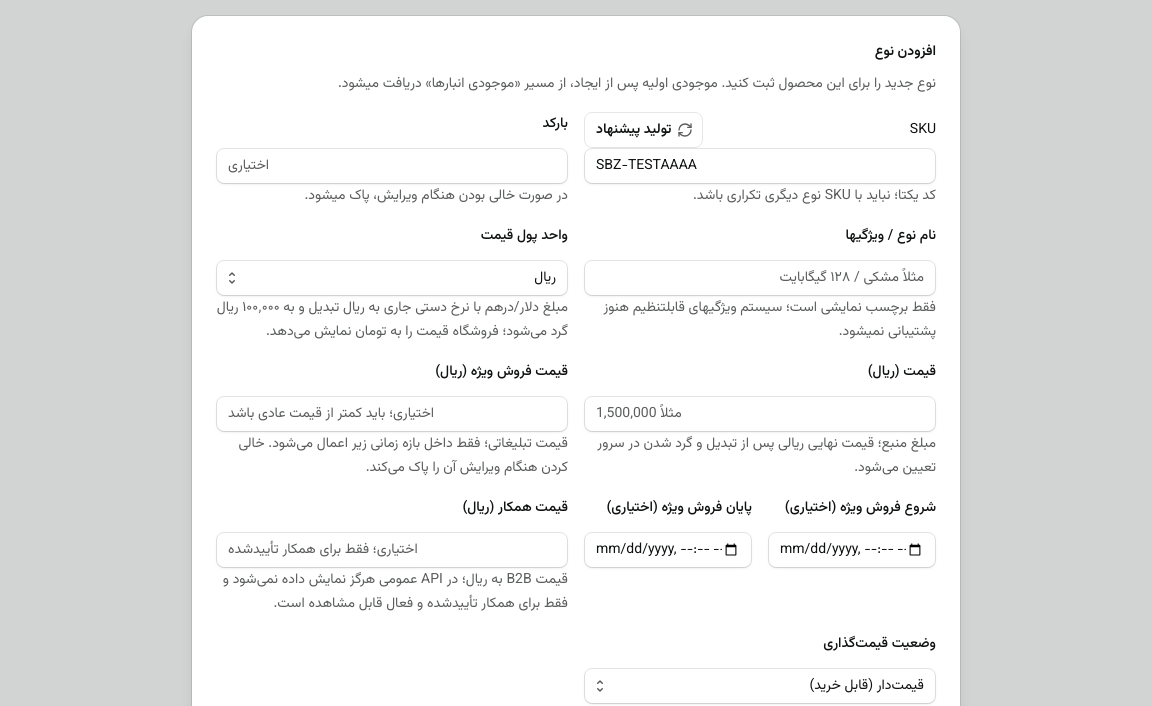
Scenario: VariantForm SKU suggestion (SS-256) › shows the API duplicate message on 409 and preserves every value for retry
The width and height of the screenshot is (1152, 706).
Later steps or results of the test are not shown.
Type "1500.00" into the field labelled "قیمت (ریال)" at (760, 414), box [584,396,936,432]
(page scrolled)
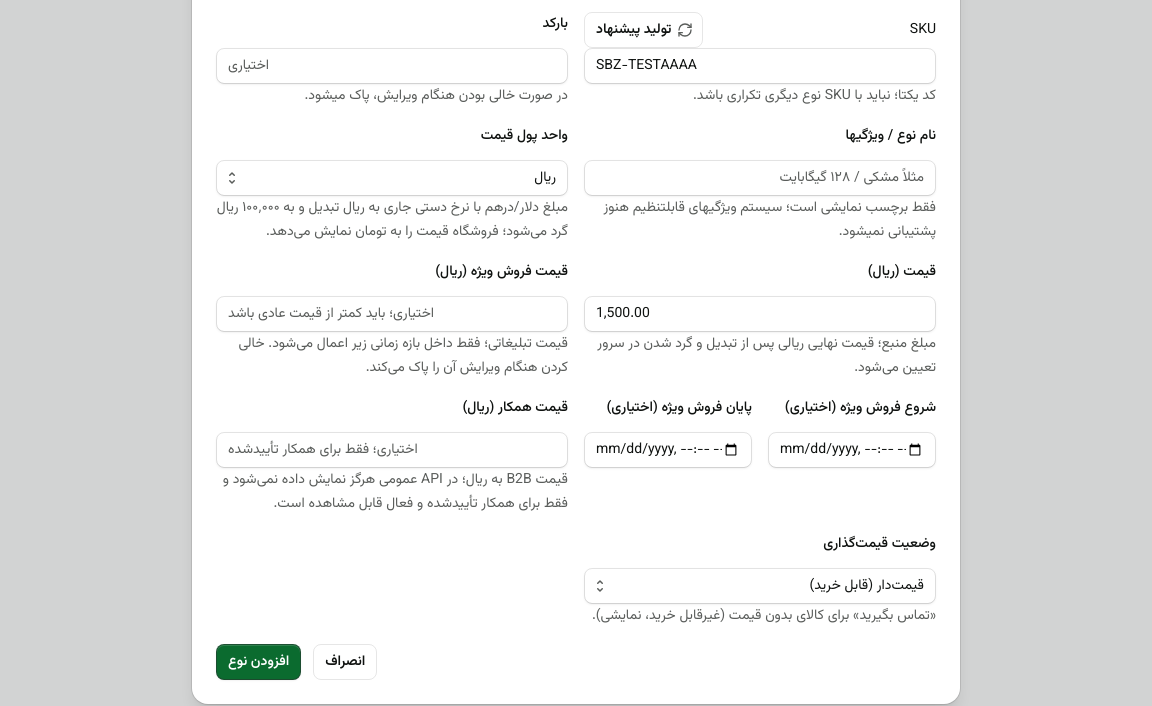
Click the button "افزودن نوع" at (259, 662), box [216,644,301,680]
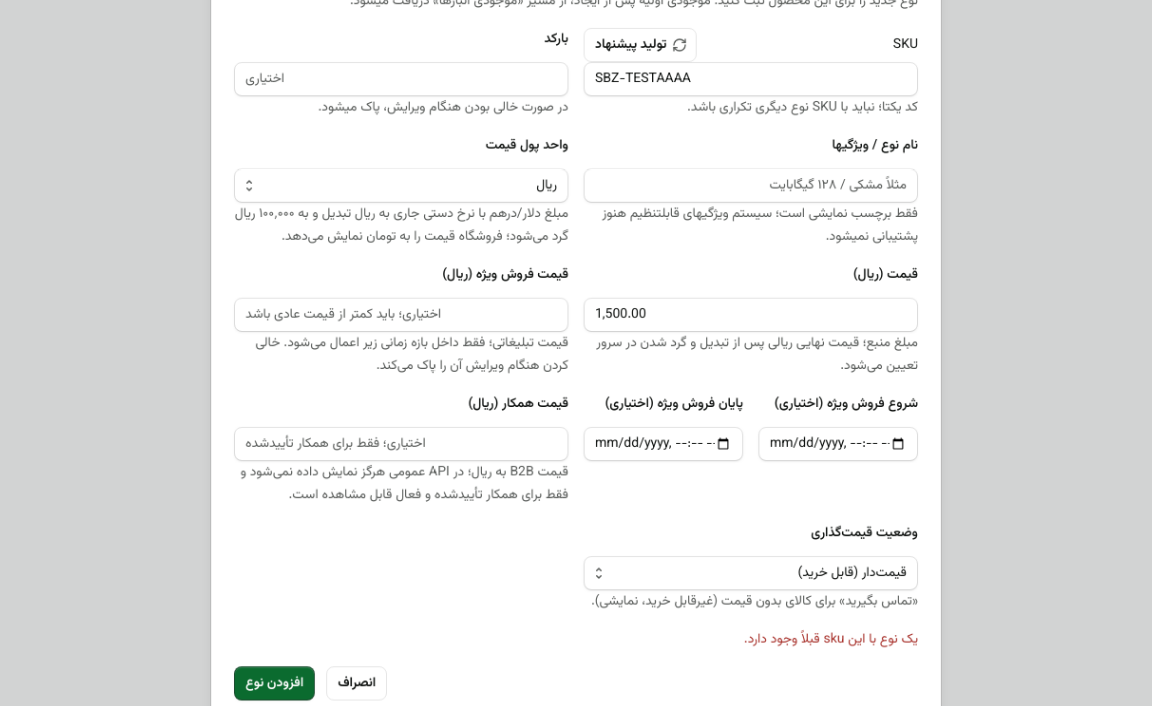
Expected: the field labelled "SKU" holds "SBZ-TESTAAAA", [584,62,918,96]
Result: the text "یک نوع با این sku قبلاً وجود دارد." is shown at [744,629,918,650]
